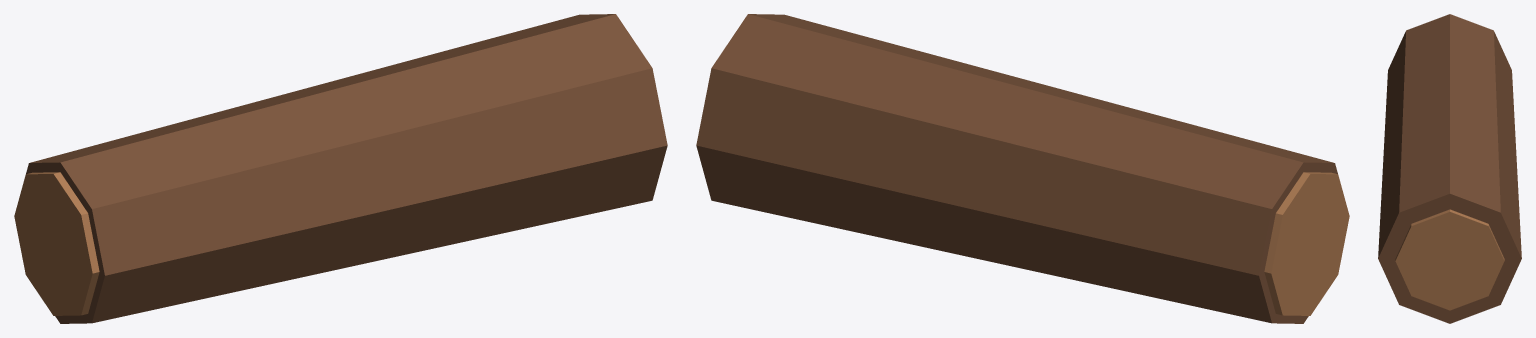
The model's file is kmen.glb.
3 views of the same model, side by side, from view 1: azimuth 30°, elevation 25°; view 2: azimuth 150°, elevation 25°; view 3: azimuth 270°, elevation 25° (orthographic). The views are drawn at different scales.
Parts seen in each view (by area): view 1: material_785239, material_ad7950; view 2: material_785239, material_ad7950; view 3: material_785239, material_ad7950.
Boxes of the visible parts, x1,y1,x2,y2 form: material_785239: (26,14,667,323); material_ad7950: (14,172,99,315); material_785239: (696,14,1337,323); material_ad7950: (1264,172,1349,315); material_785239: (1378,14,1521,323); material_ad7950: (1395,209,1504,310).
Bounding box in the file's own units: 1.85 × 0.58 × 0.58.
